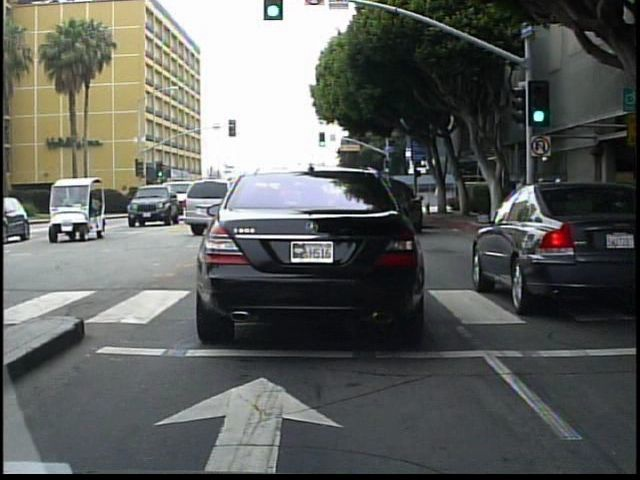person: (513, 174, 534, 228), (435, 184, 449, 213)
